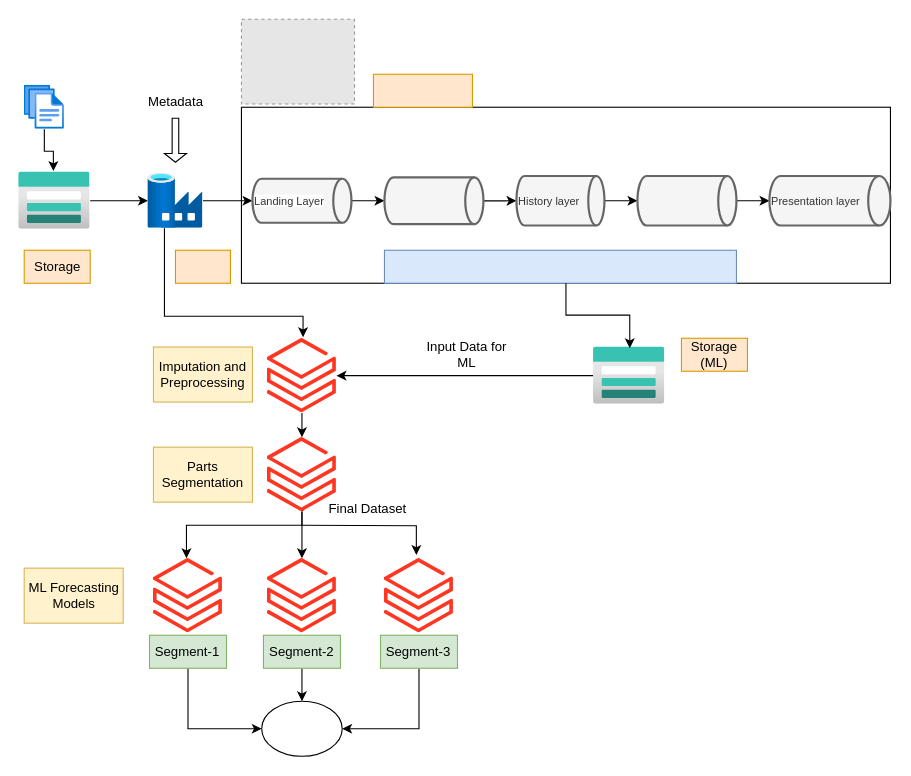
Image size: 911x776. Some labels were removed from this diagram. Grey dashed boxes stand in for pictures. Here are the shapes that lost their labels. From the top down, the centre of each, then its label:
the point at 422,90: Data Warehousing
the point at 433,200: Cleansed layer
the point at 686,200: Core layer
the point at 202,266: ADF
the point at 559,266: Dimension Modelling
the point at 301,728: MAPE Evaluation
